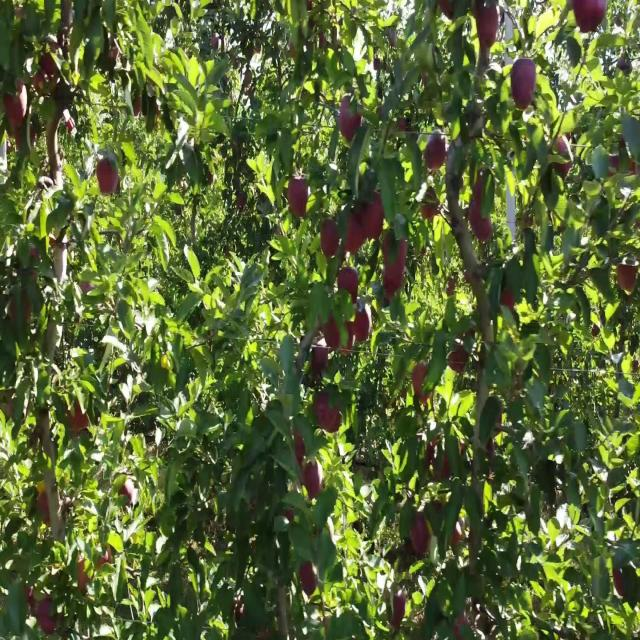apple: (512, 56, 536, 112), (468, 191, 492, 244), (316, 391, 343, 436), (572, 0, 604, 36), (4, 85, 27, 132), (340, 99, 363, 144), (476, 7, 500, 50), (384, 234, 408, 277), (428, 440, 451, 484), (328, 319, 355, 356), (344, 213, 367, 256), (608, 142, 637, 176), (96, 156, 120, 197), (288, 177, 309, 220), (364, 199, 385, 242), (424, 135, 448, 172), (320, 220, 340, 261), (40, 42, 62, 78), (412, 519, 432, 558), (412, 362, 430, 405), (336, 270, 360, 302), (304, 462, 323, 501), (556, 135, 573, 178), (616, 263, 640, 293), (40, 597, 58, 636), (300, 561, 318, 599), (612, 149, 637, 176), (352, 312, 372, 343), (312, 341, 330, 375), (68, 405, 89, 434), (420, 191, 440, 220), (384, 277, 404, 306), (340, 319, 355, 356), (448, 348, 468, 375), (324, 319, 341, 350), (292, 433, 307, 468), (392, 597, 407, 628), (80, 561, 93, 592), (40, 490, 51, 524), (96, 547, 113, 569), (384, 284, 400, 306), (80, 561, 91, 592), (44, 56, 59, 78), (32, 71, 45, 94), (616, 568, 625, 599), (504, 291, 516, 313), (120, 483, 132, 505), (24, 590, 36, 610), (456, 618, 467, 639), (452, 526, 462, 548), (440, 7, 455, 20), (24, 298, 32, 322), (8, 398, 15, 420), (136, 99, 143, 117), (400, 120, 408, 135), (240, 199, 246, 212), (84, 284, 92, 292)
